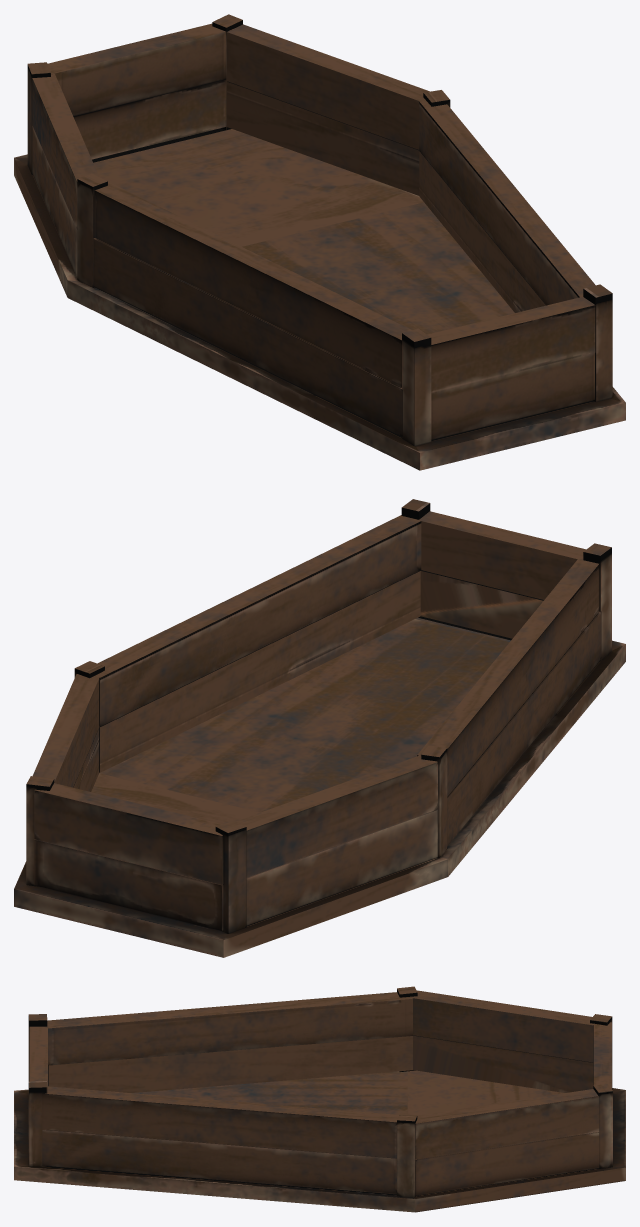
Rendered from SM_Coffin_Lidless.fbx.
3 renders of one model, top to bottom at view 1: azimuth 30°, elevation 25°; view 2: azimuth 150°, elevation 25°; view 3: azimuth 270°, elevation 25°, orthographic. The views are drawn at different scales.
Parts seen in each view (by area): view 1: SM_Coffin_Lidless; view 2: SM_Coffin_Lidless; view 3: SM_Coffin_Lidless.
Boxes of the visible parts, x1,y1,x2,y2 form: SM_Coffin_Lidless: (14,14,625,470); SM_Coffin_Lidless: (14,499,625,957); SM_Coffin_Lidless: (14,986,625,1212).
Size of the model in its own units: 1.14 by 0.3457 by 2.09.
